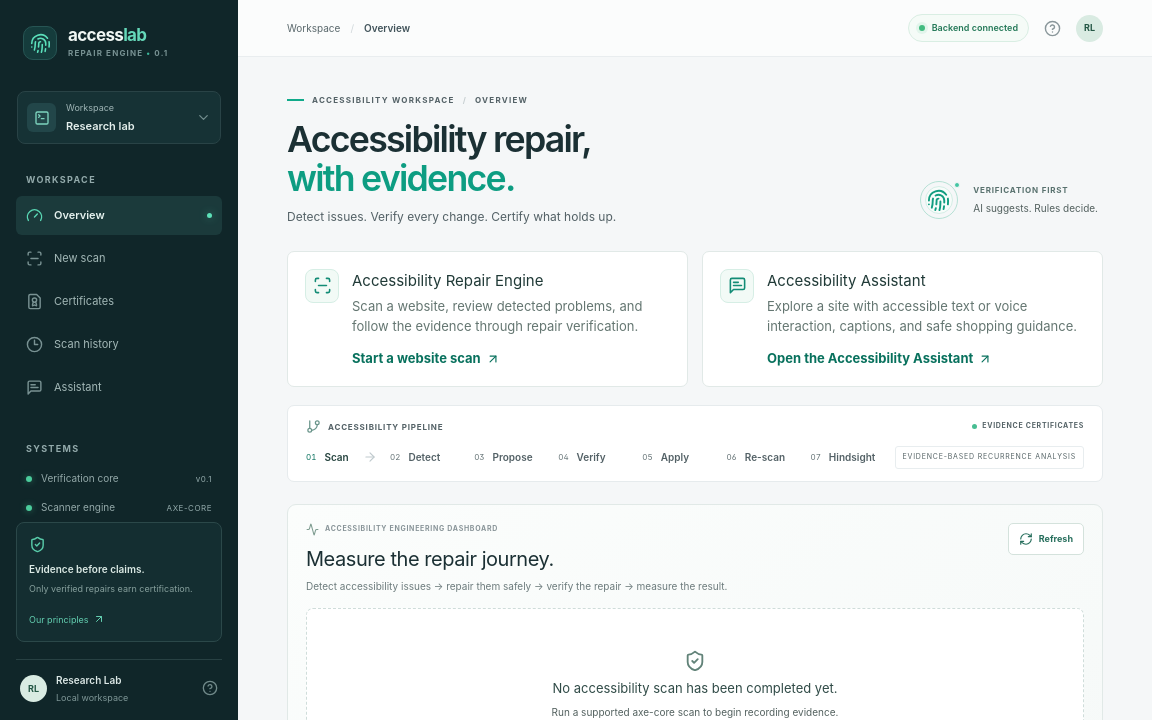
dashboard › loads scan history from persisted Hindsight occurrence data
expect the text "Backend connected" is shown: met, box [908,14,1029,42]
Click the link "Scan history": (72, 344) [26,336,119,352]
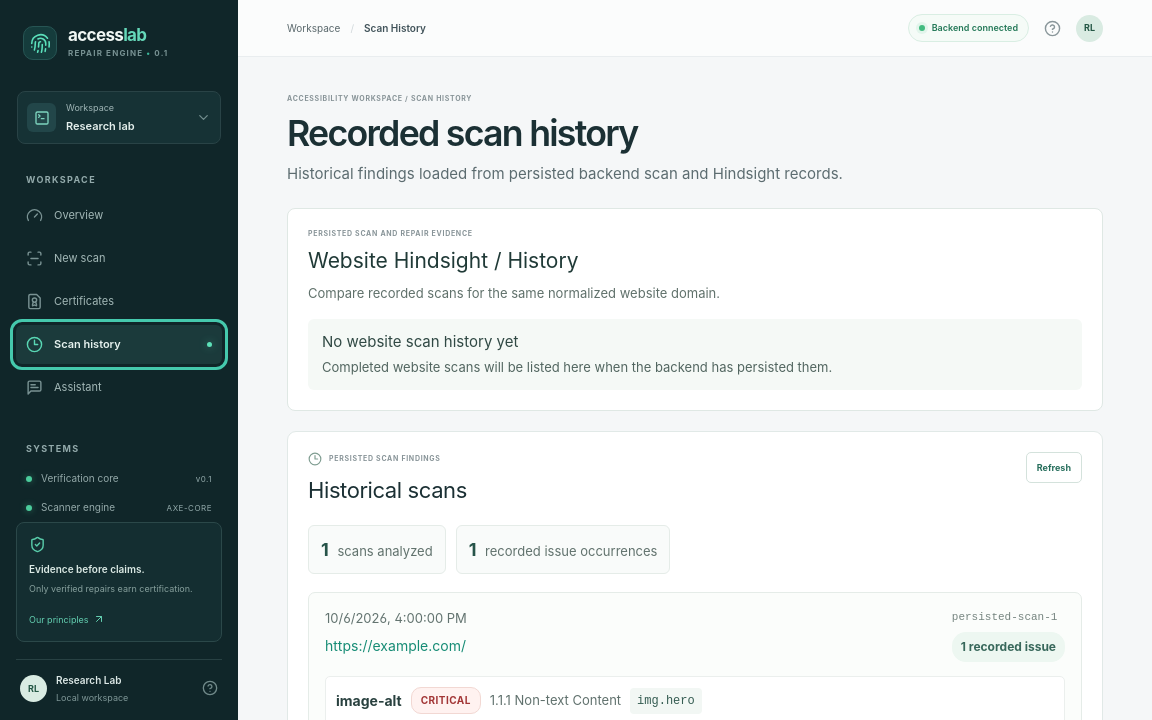
expect the text "image-alt" is shown: met, box [336,690,402,711]
expect the text "persisted-scan-1" is shown: met, box [952,609,1065,625]
expect the text "img.hero" is shown: met, box [630,688,702,714]
